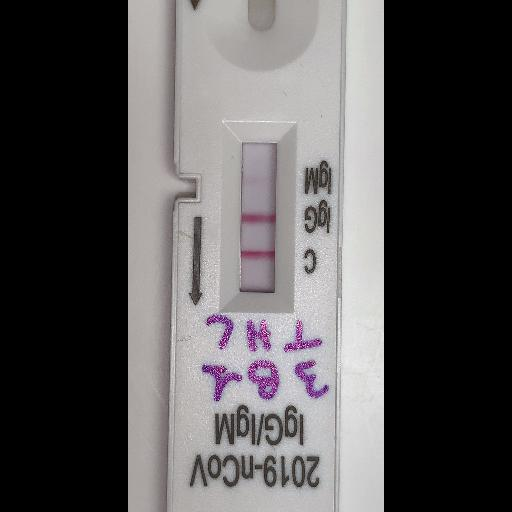Pos: (176, 0, 344, 512)
